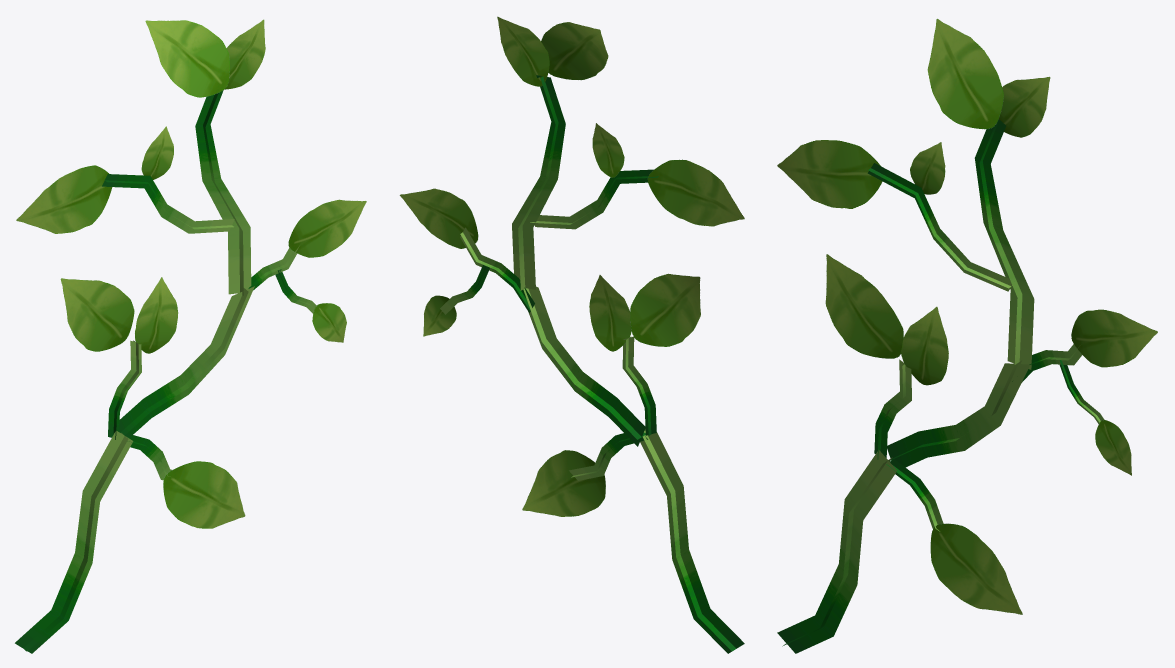
The model's file is SM_Liere.fbx.
3 views of the same model, side by side, from view 1: azimuth 30°, elevation 25°; view 2: azimuth 150°, elevation 25°; view 3: azimuth 330°, elevation 25° (orthographic). The views are drawn at different scales.
Visible parts, largest first — view 1: Plane149; view 2: Plane149; view 3: Plane149.
Boxes of the visible parts, left/top/right/bottom form: Plane149: left=15, top=19, right=366, bottom=653; Plane149: left=399, top=16, right=744, bottom=653; Plane149: left=777, top=18, right=1157, bottom=653.
Size of the model in its own units: 94.11 by 154 by 9.25.
1 material, 1 textured.
